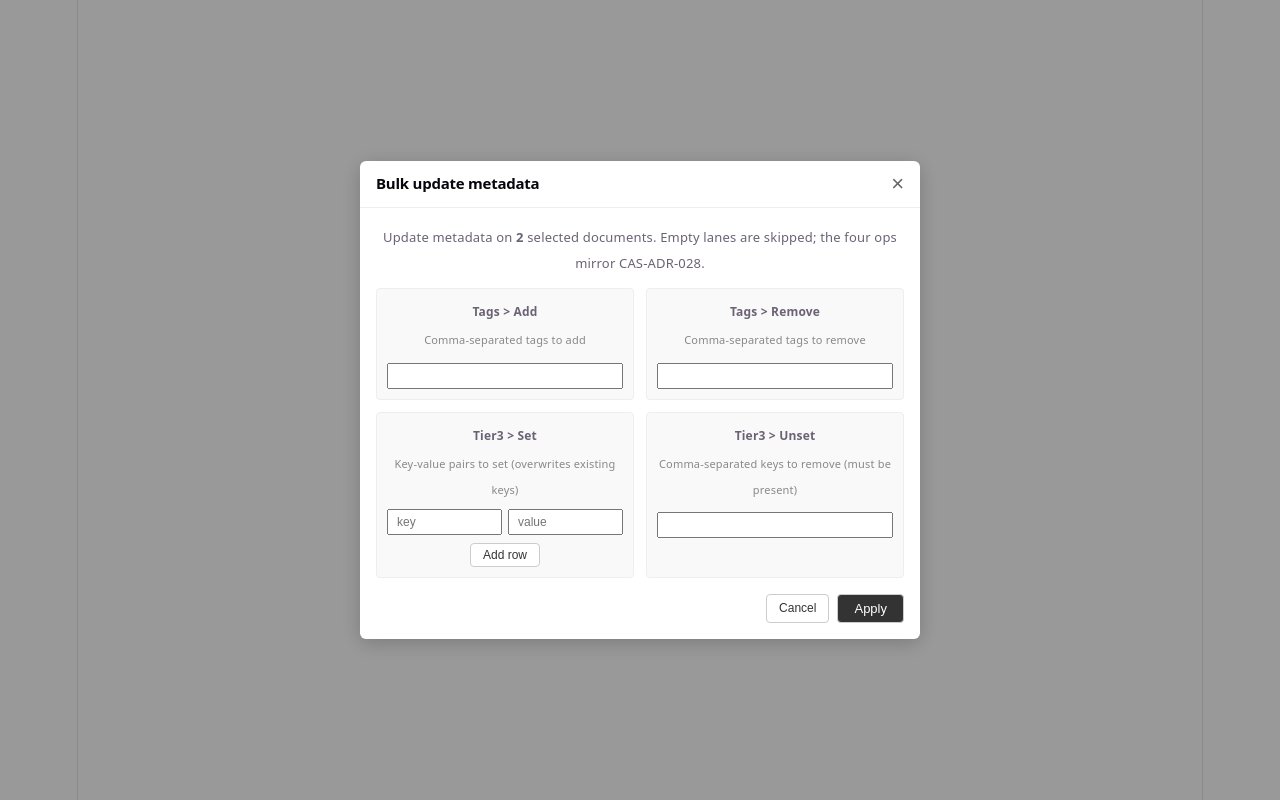
BulkMetadataDialog › renders per-item error envelope after a partial-failure response
The image size is (1280, 800).
In the field named "Tags to add": coordinates (505, 376) [387,362,623,388], type "foo"
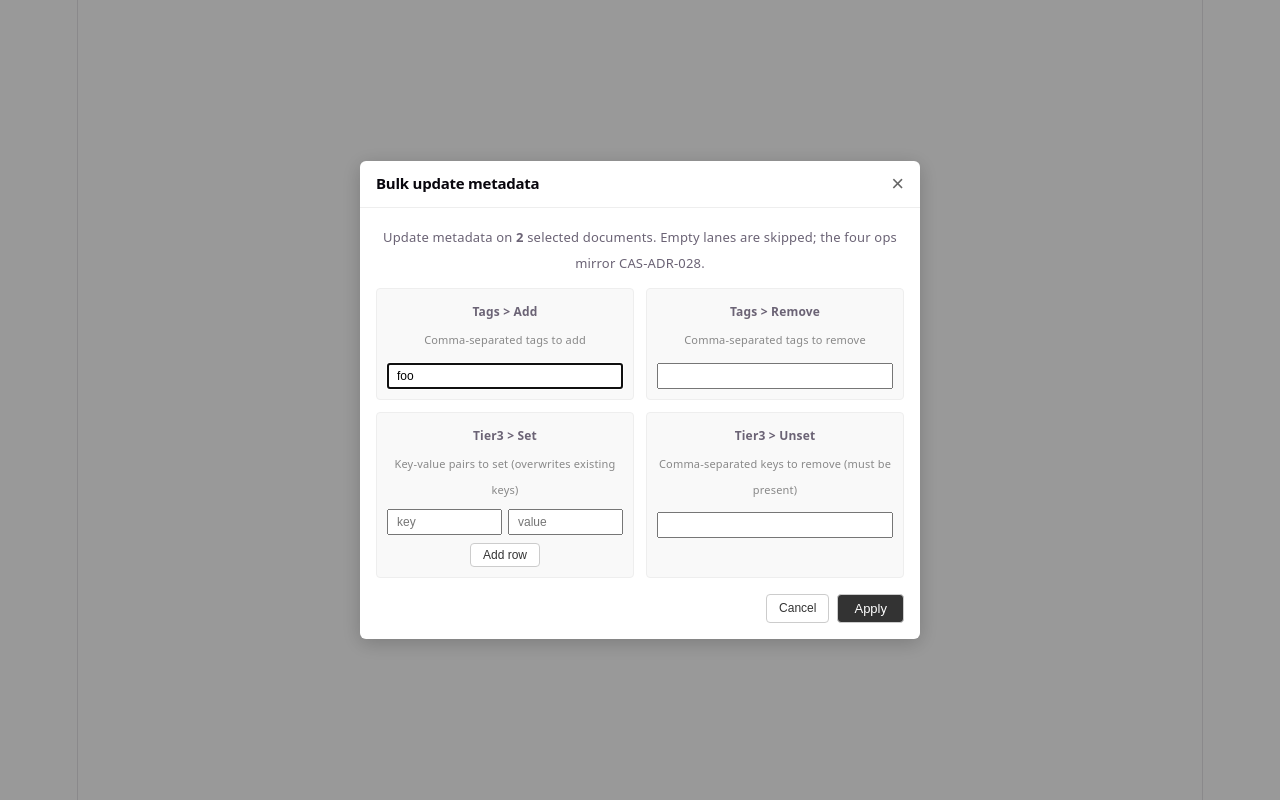
Click the button "Apply": coordinates (871, 608) [838,594,904,623]
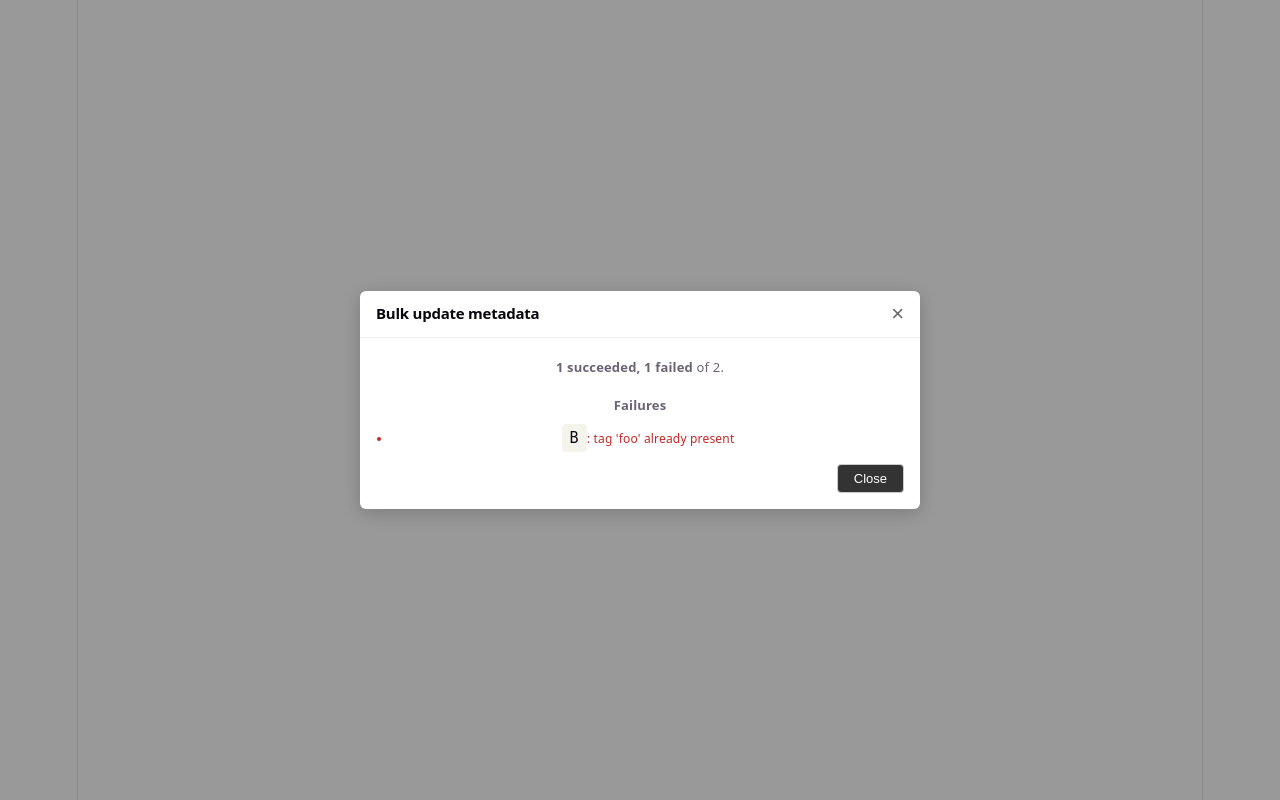
Check: the text "B" is shown, box [562,424,587,452]
Check: the element with test id "bulk-metadata-results-summary" shows "1 succeeded, 1 failed", box [556,358,724,376]
Check: the list item "B : tag 'foo' already present" is shown, box [562,424,734,452]
